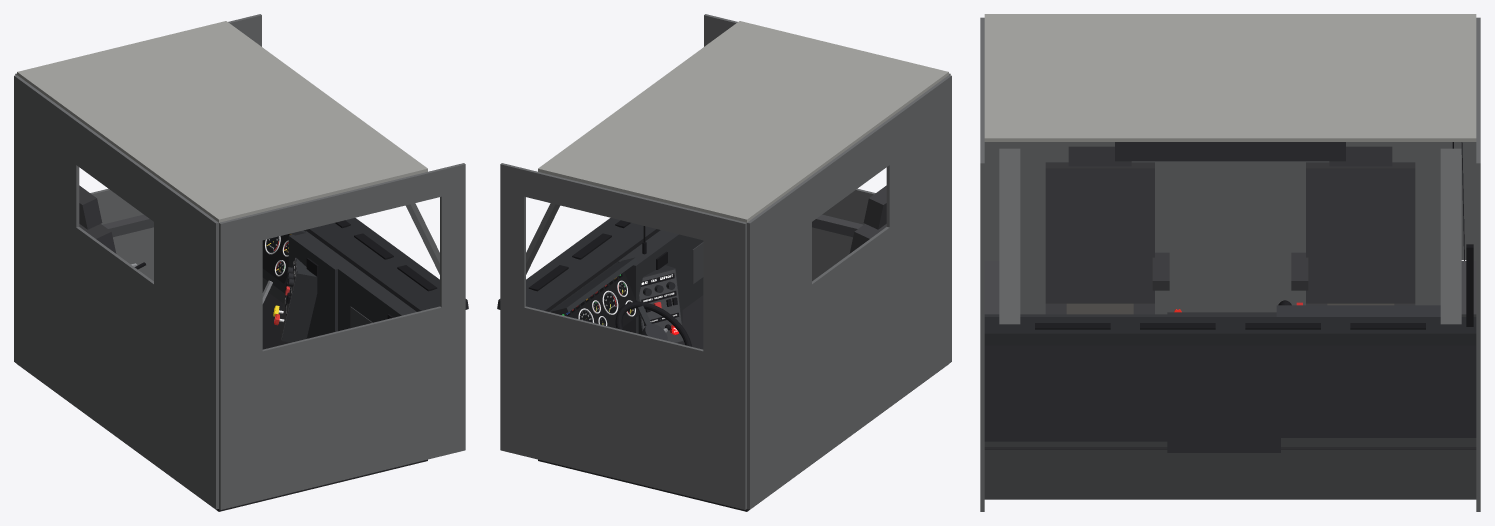
Rendered from cab_interior.glb.
3 views of the same model, side by side, from view 1: azimuth 30°, elevation 25°; view 2: azimuth 150°, elevation 25°; view 3: azimuth 270°, elevation 25° (orthographic). The views are drawn at different scales.
Parts seen in each view (by area): view 1: Int_Headliner, Int_BackWall_Lower, Int_DoorPanel_R, Int_BPillar_R, Int_BackWall_Upper, Int_APillar_R, Int_DoorHeader_R, Dash_Top, Int_BackWall_L, Int_BackWall_R, Dash_Center, Dash_Passenger (+9 smaller); view 2: Int_Headliner, Int_BackWall_Lower, Int_DoorPanel_L, Int_BPillar_L, Int_BackWall_Upper, Int_APillar_L, Int_DoorHeader_L, Dash_Top, Int_BackWall_R, Int_BackWall_L, Int_DoorPanel_R, Dash_Center (+11 smaller); view 3: Int_Headliner, Int_BackWall_Lower, Int_Firewall_Lower, Dash_Passenger, Dash_Driver, Driver_Seat_Back, Passenger_Seat_Back, Dash_Center, Dash_Top, Int_OverheadConsole, Int_APillarTrim_L, Int_APillarTrim_R (+12 smaller).
Part boxes in pixels (x1,y1,x2,y2): Int_Headliner: [17, 21, 427, 222]; Int_BackWall_Lower: [14, 182, 218, 509]; Int_DoorPanel_R: [262, 306, 441, 499]; Int_BPillar_R: [219, 212, 262, 509]; Int_BackWall_Upper: [14, 75, 218, 266]; Int_APillar_R: [440, 163, 465, 455]; Int_DoorHeader_R: [261, 169, 441, 240]; Dash_Top: [305, 218, 468, 311]; Int_BackWall_L: [14, 119, 79, 227]; Int_BackWall_R: [154, 222, 218, 329]; Dash_Center: [288, 231, 352, 338]; Dash_Passenger: [338, 265, 416, 331]; Int_Headliner: [538, 21, 948, 222]; Int_BackWall_Lower: [747, 182, 951, 509]; Int_DoorPanel_L: [524, 306, 703, 499]; Int_BPillar_L: [703, 212, 746, 509]; Int_BackWall_Upper: [747, 75, 951, 266]; Int_APillar_L: [500, 163, 525, 455]; Int_DoorHeader_L: [524, 169, 704, 240]; Dash_Top: [497, 218, 660, 311]; Int_BackWall_R: [886, 119, 951, 227]; Int_BackWall_L: [747, 222, 811, 329]; Int_DoorPanel_R: [812, 188, 875, 281]; Dash_Center: [618, 230, 682, 333]; Int_Headliner: [984, 14, 1476, 141]; Int_BackWall_Lower: [984, 147, 1476, 314]; Int_Firewall_Lower: [984, 438, 1476, 499]; Dash_Passenger: [984, 314, 1167, 441]; Dash_Driver: [1281, 345, 1476, 437]; Driver_Seat_Back: [1306, 162, 1415, 303]; Passenger_Seat_Back: [1045, 162, 1154, 303]; Dash_Center: [1167, 312, 1280, 452]; Dash_Top: [984, 317, 1476, 345]; Int_OverheadConsole: [1115, 142, 1345, 161]; Int_APillarTrim_L: [1440, 148, 1461, 324]; Int_APillarTrim_R: [999, 148, 1020, 324].
Bounding box in the file's own units: 1.69 × 1.87 × 2.38.
Materials: 52 (30 with a texture image).
